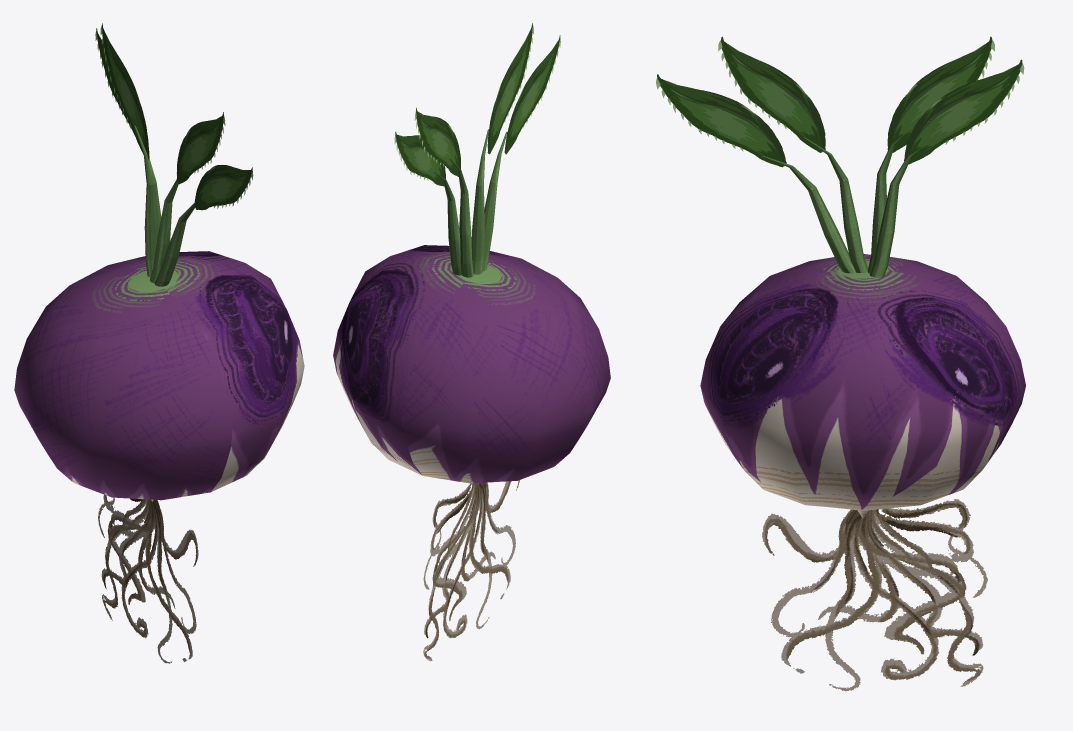
The model's file is TerribleTurnip.fbx.
The picture shows the model from 3 angles, left to right: view 1: azimuth 30°, elevation 25°; view 2: azimuth 150°, elevation 25°; view 3: azimuth 270°, elevation 25°; orthographic projection. The views are drawn at different scales.
Visible parts, largest first — view 1: TurnipBod, TurnipLeaves, TRoots, TStem3, TStem1, TStem4; view 2: TurnipBod, TurnipLeaves, TRoots, TStem4, TStem3, TStem1, TStem2; view 3: TurnipBod, TurnipLeaves, TRoots, TStem2, TStem4, TStem1, TStem3.
Part boxes in pixels (<box>): TurnipBod: <box>14,251,304,501</box>; TurnipLeaves: <box>95,23,253,210</box>; TRoots: <box>98,494,198,663</box>; TStem3: <box>134,125,157,277</box>; TStem1: <box>154,203,195,286</box>; TStem4: <box>150,179,178,282</box>; TurnipBod: <box>333,245,610,484</box>; TurnipLeaves: <box>394,23,560,186</box>; TRoots: <box>423,480,519,660</box>; TStem4: <box>471,129,488,274</box>; TStem3: <box>449,158,473,277</box>; TStem1: <box>482,132,507,271</box>; TStem2: <box>433,171,461,275</box>; TurnipBod: <box>700,254,1025,518</box>; TurnipLeaves: <box>656,36,1024,167</box>; TRoots: <box>762,499,987,691</box>; TStem2: <box>869,145,924,277</box>; TStem4: <box>803,137,868,272</box>; TStem1: <box>761,155,855,273</box>; TStem3: <box>867,132,906,273</box>.
Size of the model in its own units: 22.62 by 54.26 by 29.31.
